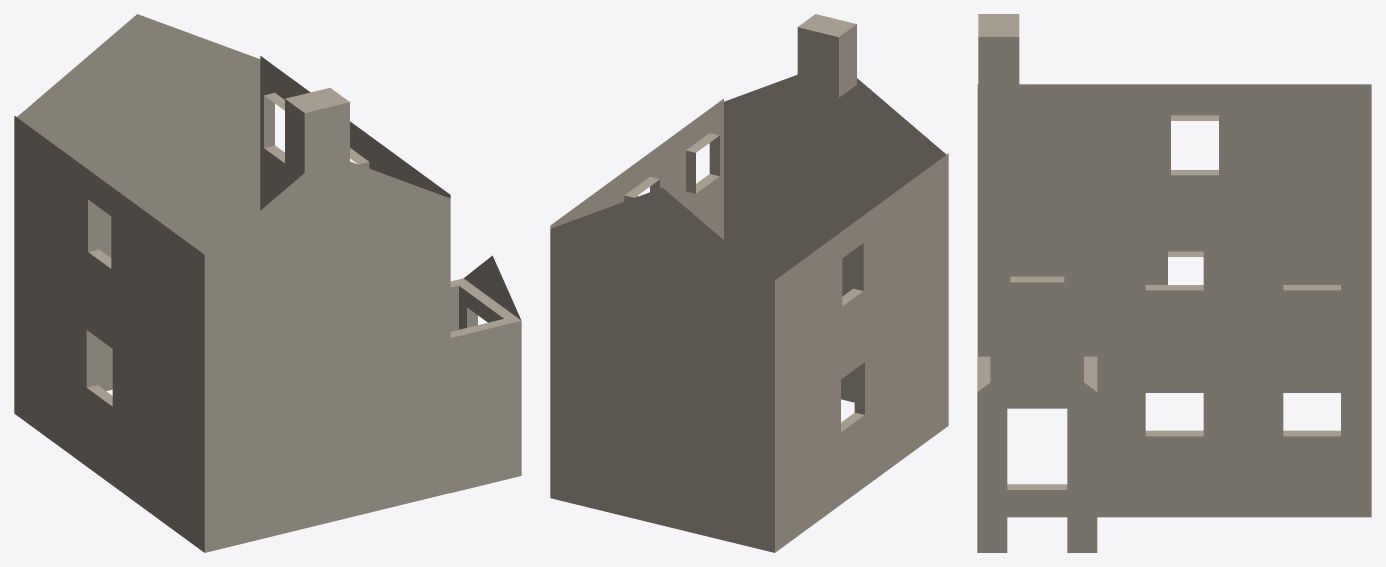
File: SM_Bld_040_Render.glb
3 renders of one model, left to right at view 1: azimuth 30°, elevation 25°; view 2: azimuth 150°, elevation 25°; view 3: azimuth 270°, elevation 25°, orthographic. The views are drawn at different scales.
Visible parts, largest first — view 1: SM_Bld_040_Render; view 2: SM_Bld_040_Render; view 3: SM_Bld_040_Render.
Part boxes in pixels (x1,y1,x2,y2): SM_Bld_040_Render: (14, 14, 521, 552); SM_Bld_040_Render: (550, 14, 948, 552); SM_Bld_040_Render: (977, 14, 1371, 552).
Bounding box in the file's own units: 6.3 × 7.89 × 6.57.
